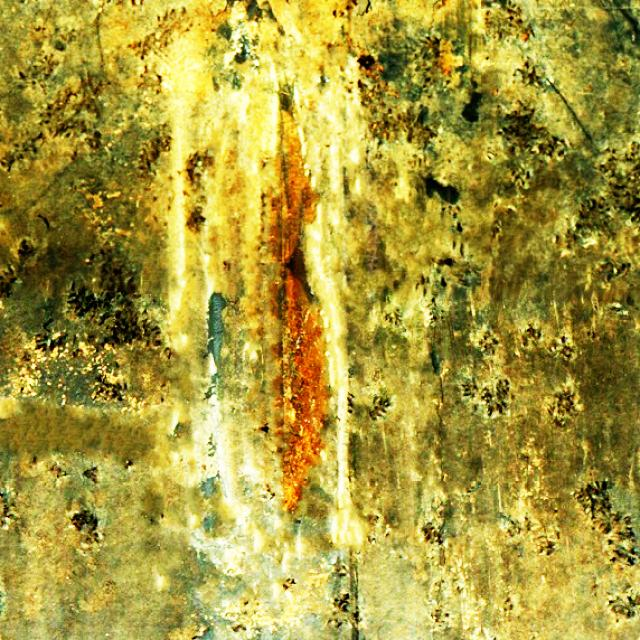Corrosion: (280, 272, 328, 509), (275, 108, 319, 262)
